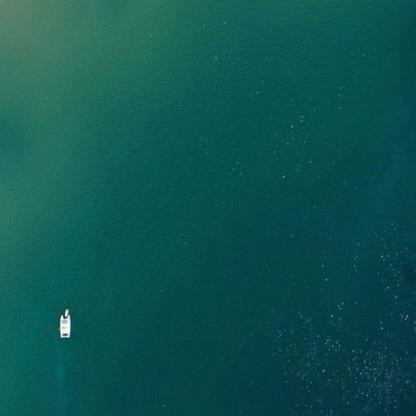ship: (54, 303, 75, 344)
